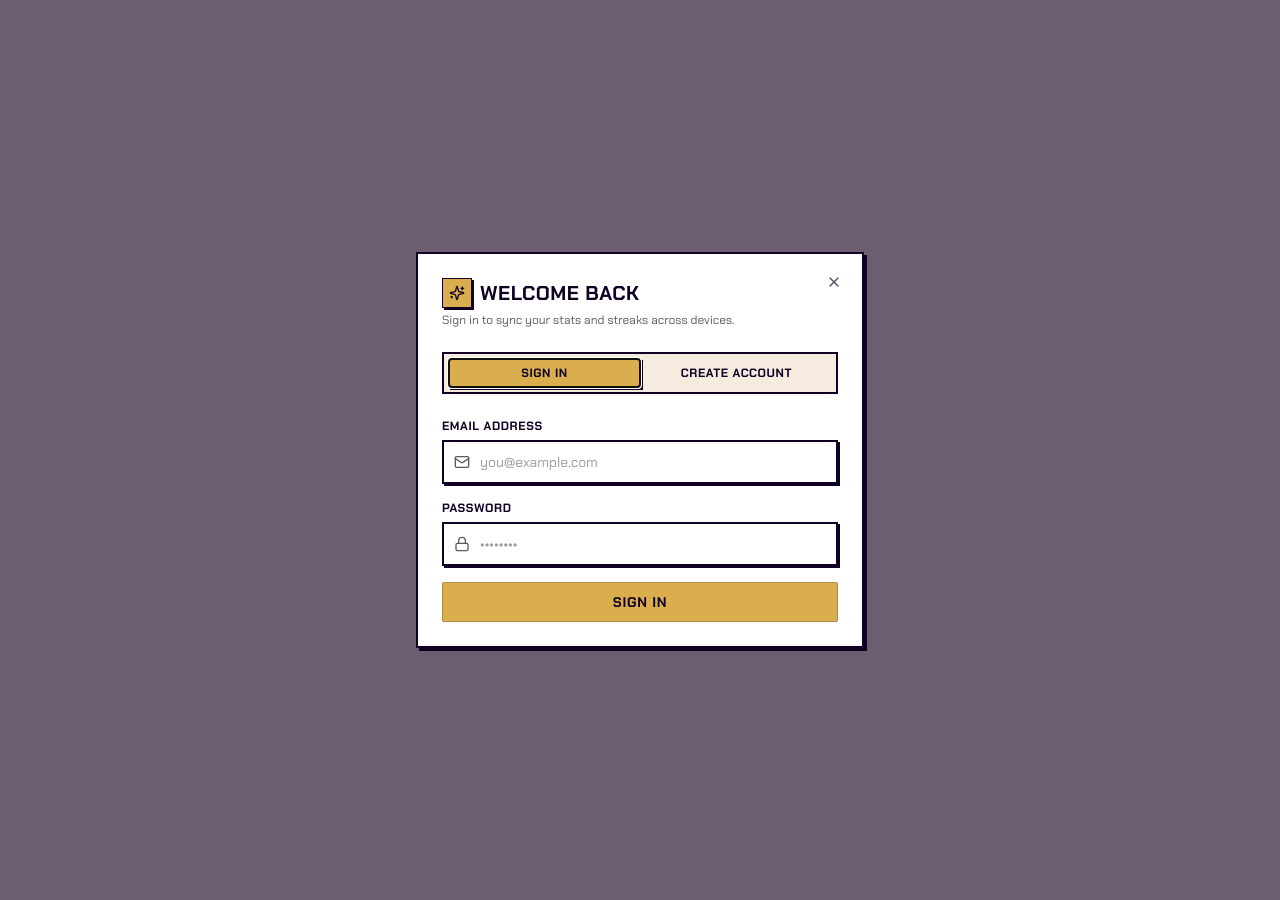
Test: Auth Components › AuthModal › switches between Sign In and Create Account tabs
Expected: the heading "Welcome Back" is shown, [480, 279, 640, 307]
Click the button with id "auth-tab-register". click: (736,373)
box: [641, 358, 832, 388]
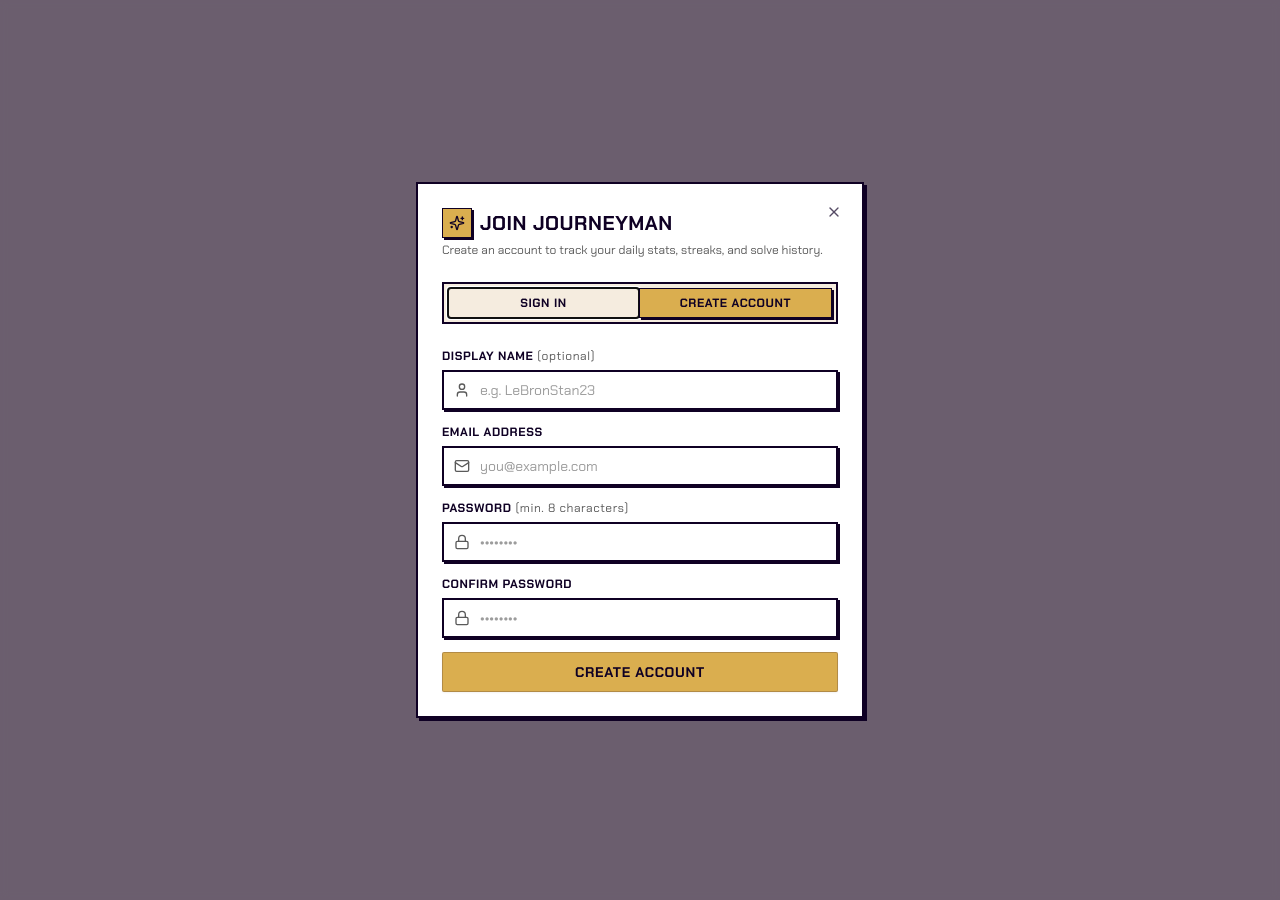
Now the heading "Join JourneyMan" is shown, box [480, 209, 673, 237]
